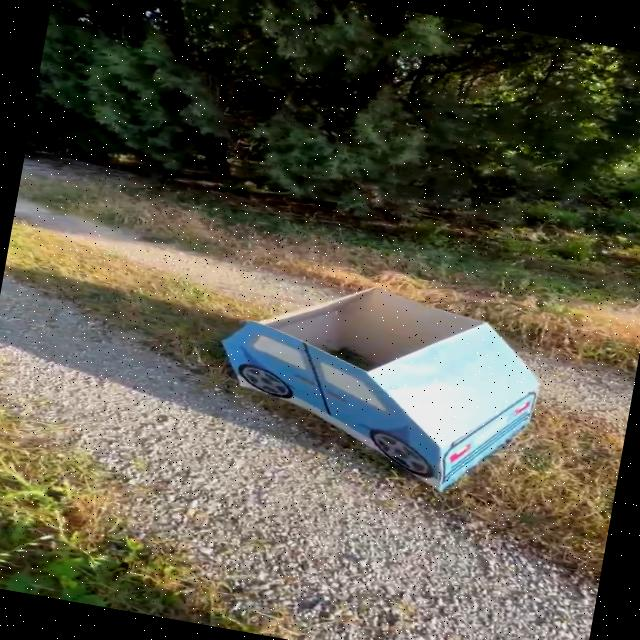blue_car: (116, 226, 586, 532)
